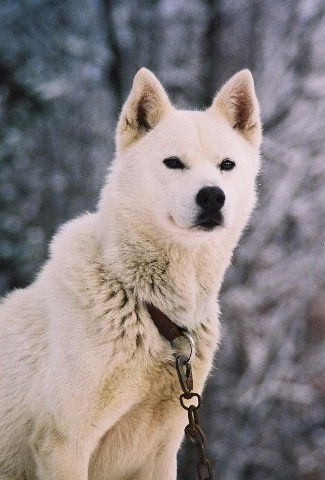dog: (0, 65, 262, 478)
